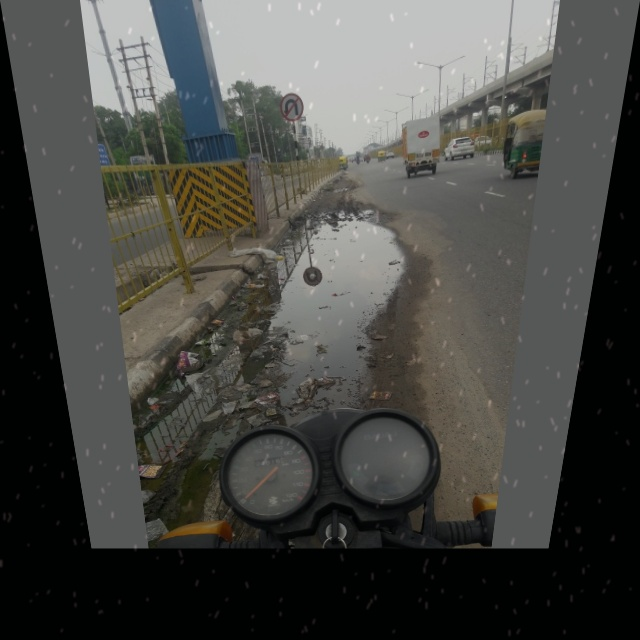U_Turn_Prohibited: (279, 91, 305, 125)
